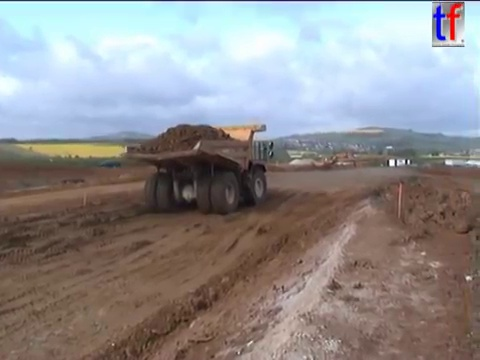truck: (120, 122, 275, 215)
